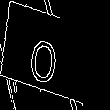O_N: (38, 25, 72, 85)
